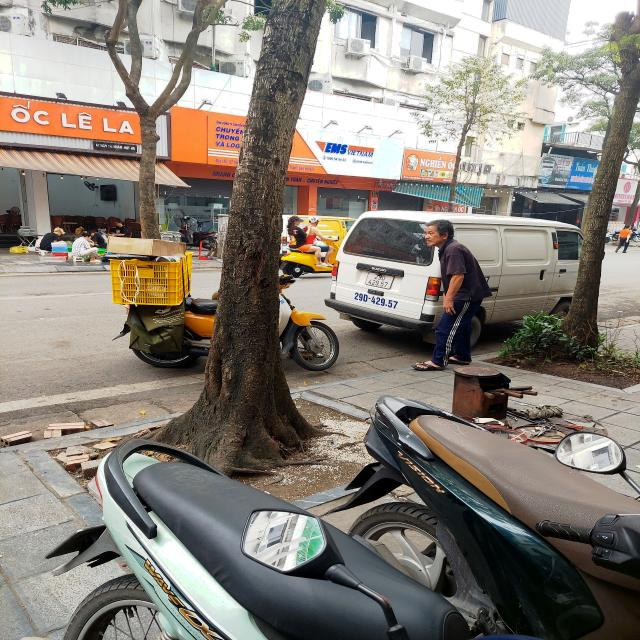license_plate: (365, 272, 396, 290)
